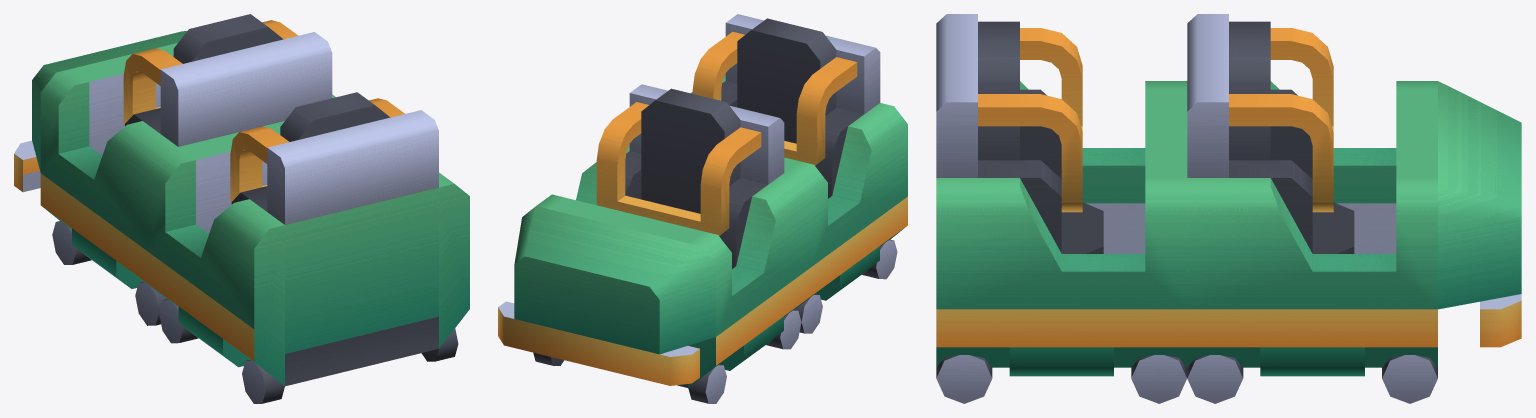
The model's file is coaster-train-safety.glb.
The picture shows the model from 3 angles, left to right: view 1: azimuth 30°, elevation 25°; view 2: azimuth 150°, elevation 25°; view 3: azimuth 270°, elevation 25°; orthographic projection. The views are drawn at different scales.
Parts seen in each view (by area): view 1: coaster-train-safety; view 2: coaster-train-safety; view 3: coaster-train-safety.
Boxes of the visible parts, bbox=[...] form: coaster-train-safety: bbox=[14, 14, 469, 403]; coaster-train-safety: bbox=[498, 14, 907, 403]; coaster-train-safety: bbox=[936, 14, 1521, 403].
Size of the model in its own units: 0.7 by 0.817 by 1.4.
1 material, 1 textured.
